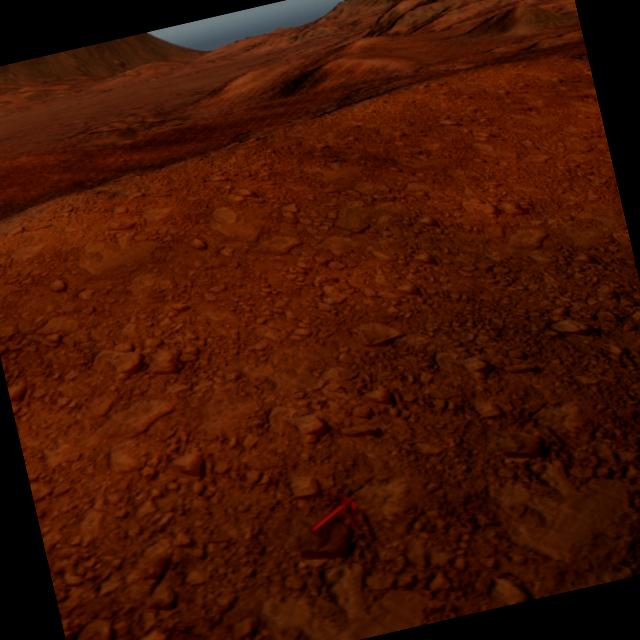newhammer: (303, 492, 359, 534)
